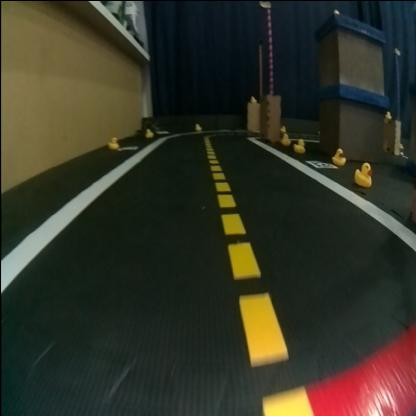Duckie: (354, 160, 372, 184), (332, 148, 346, 164), (295, 136, 304, 152), (109, 135, 119, 147), (280, 133, 290, 143), (147, 127, 153, 136), (385, 109, 391, 118), (195, 122, 201, 130), (250, 94, 256, 100), (280, 124, 286, 130)
QR code: (307, 158, 336, 166)
